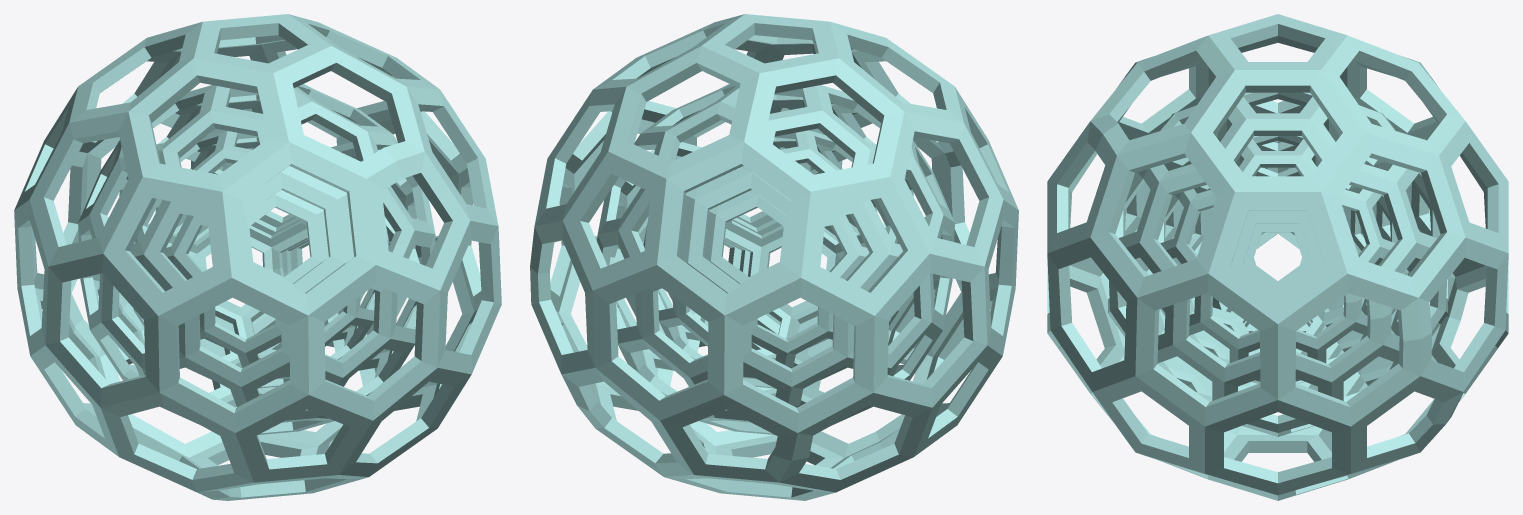
Rendered from Ball_puzzle.fbx.
3 views of the same model, side by side, from view 1: azimuth 30°, elevation 25°; view 2: azimuth 150°, elevation 25°; view 3: azimuth 270°, elevation 25° (orthographic).
Parts seen in each view (by area): view 1: Icosphere; view 2: Icosphere; view 3: Icosphere.
Boxes of the visible parts, box(x1,y1,x2,y2) form: Icosphere: box(14, 14, 501, 500); Icosphere: box(530, 14, 1018, 500); Icosphere: box(1047, 14, 1508, 500).
Bounding box in the file's own units: 184 × 178 × 175.
